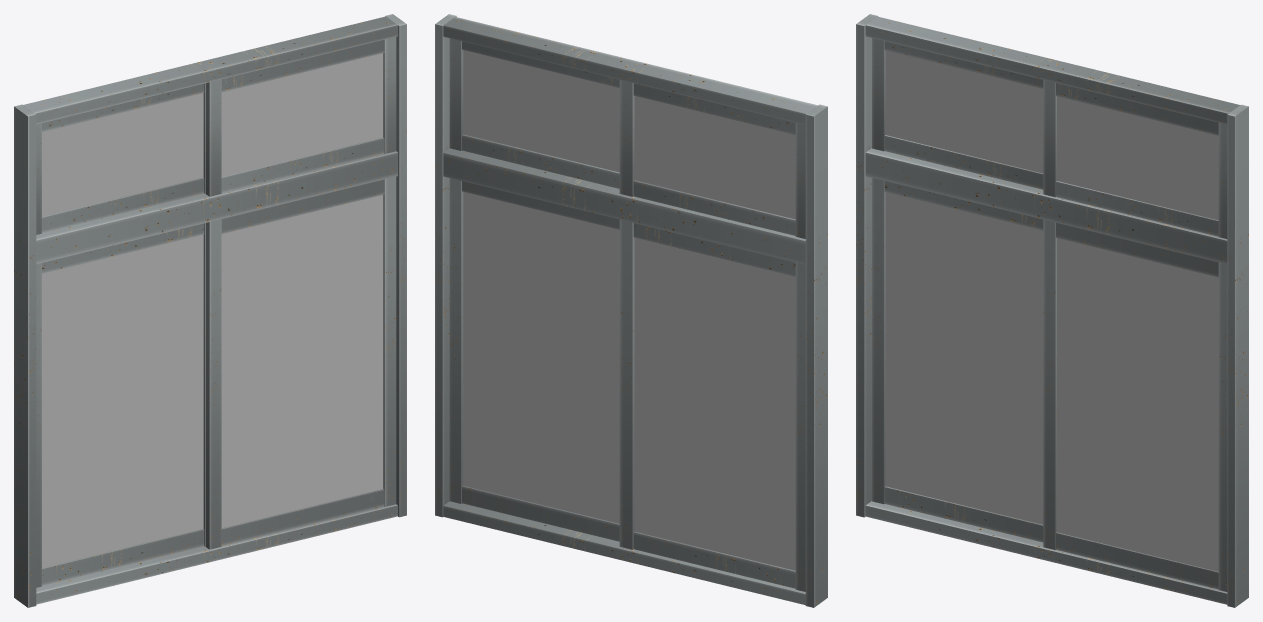
File: bil_window_b1_1.fbx
3 renders of one model, left to right at view 1: azimuth 30°, elevation 25°; view 2: azimuth 150°, elevation 25°; view 3: azimuth 330°, elevation 25°, orthographic.
Visible parts, largest first — view 1: bil_window_b1_1; view 2: bil_window_b1_1; view 3: bil_window_b1_1.
Boxes of the visible parts, x1,y1,x2,y2 form: bil_window_b1_1: (14, 14, 406, 607); bil_window_b1_1: (435, 14, 827, 607); bil_window_b1_1: (856, 14, 1248, 607).
Bounding box in the file's own units: 183 × 227 × 11.68.
